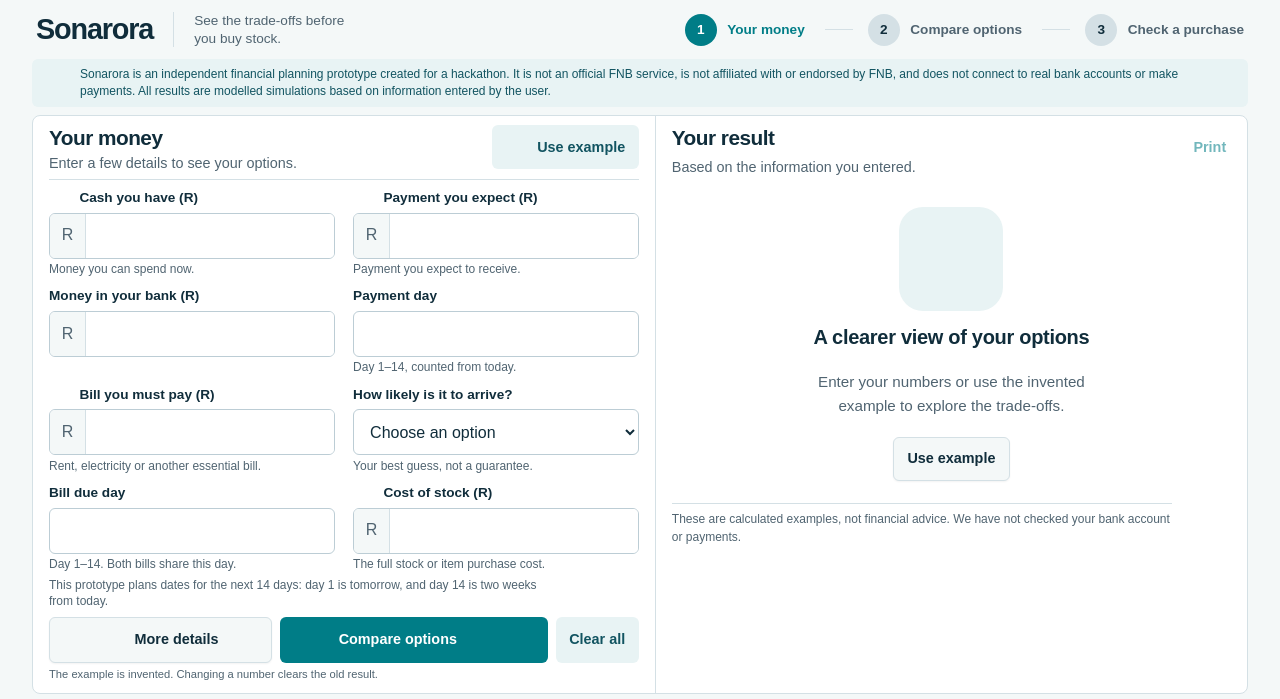
Test case: Sprint 4 UI hardening › focuses a global validation summary when no individual field matches
Click the button "Compare options": [414, 640] box [280,617,548,663]
Wait 5000 ms
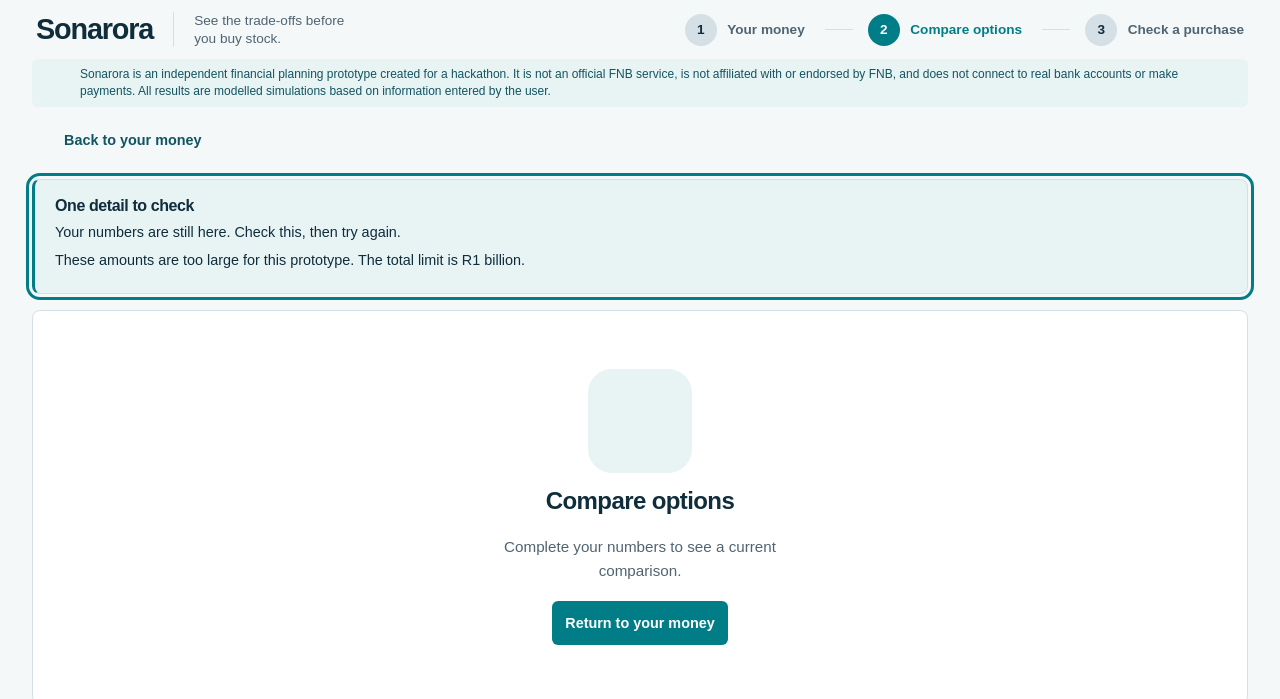
Check: the text "R1 billion" is shown, box [55,252,525,268]
